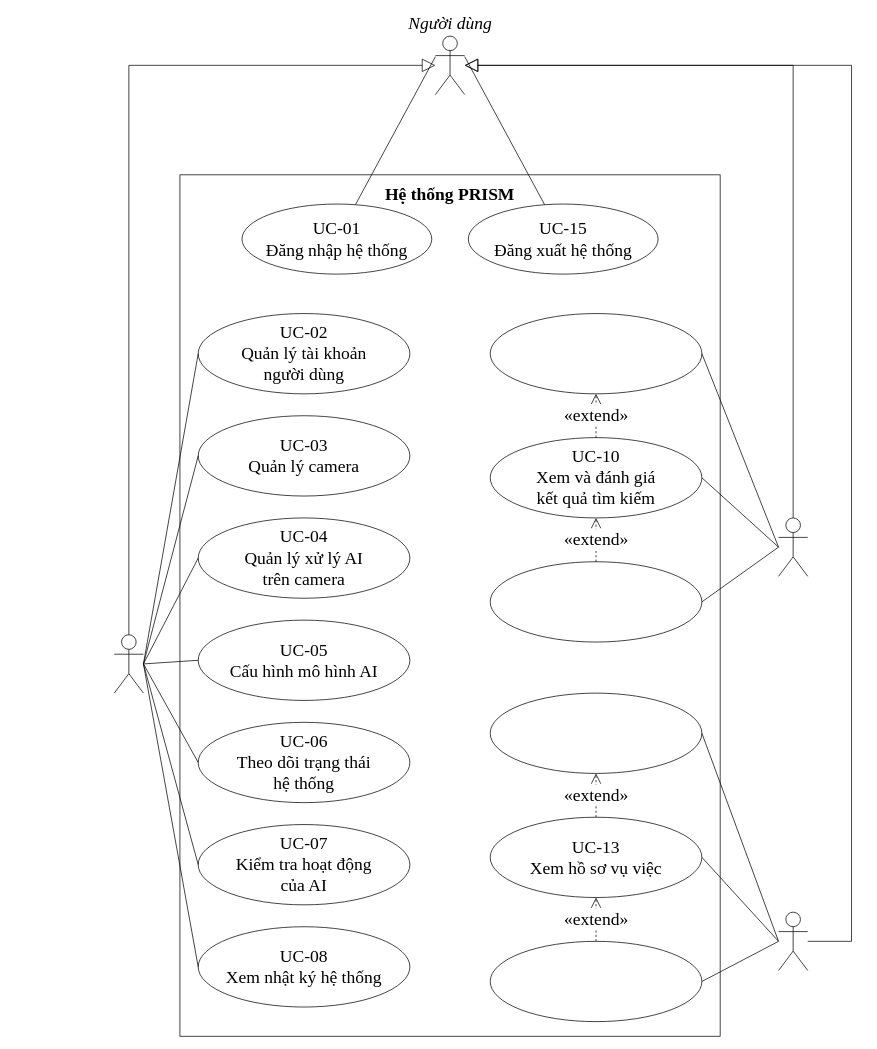
This 877x1049 diagram has some shape labels left out. The centre of each missing label's shape, as x and y in pixels:
Giám sát viên (Operator): the point at 793,546
Quản lý (Viewer): the point at 793,941
Quản trị viên (Admin): the point at 128,663
UC-09 Tìm kiếm người bằng AI: the point at 595,353
UC-11 Quản lý hồ sơ vụ việc: the point at 595,601
UC-12 Xem thông tin tổng quan: the point at 595,732
UC-14 Xem thông tin kết quả tìm kiếm đã lưu: the point at 595,981
